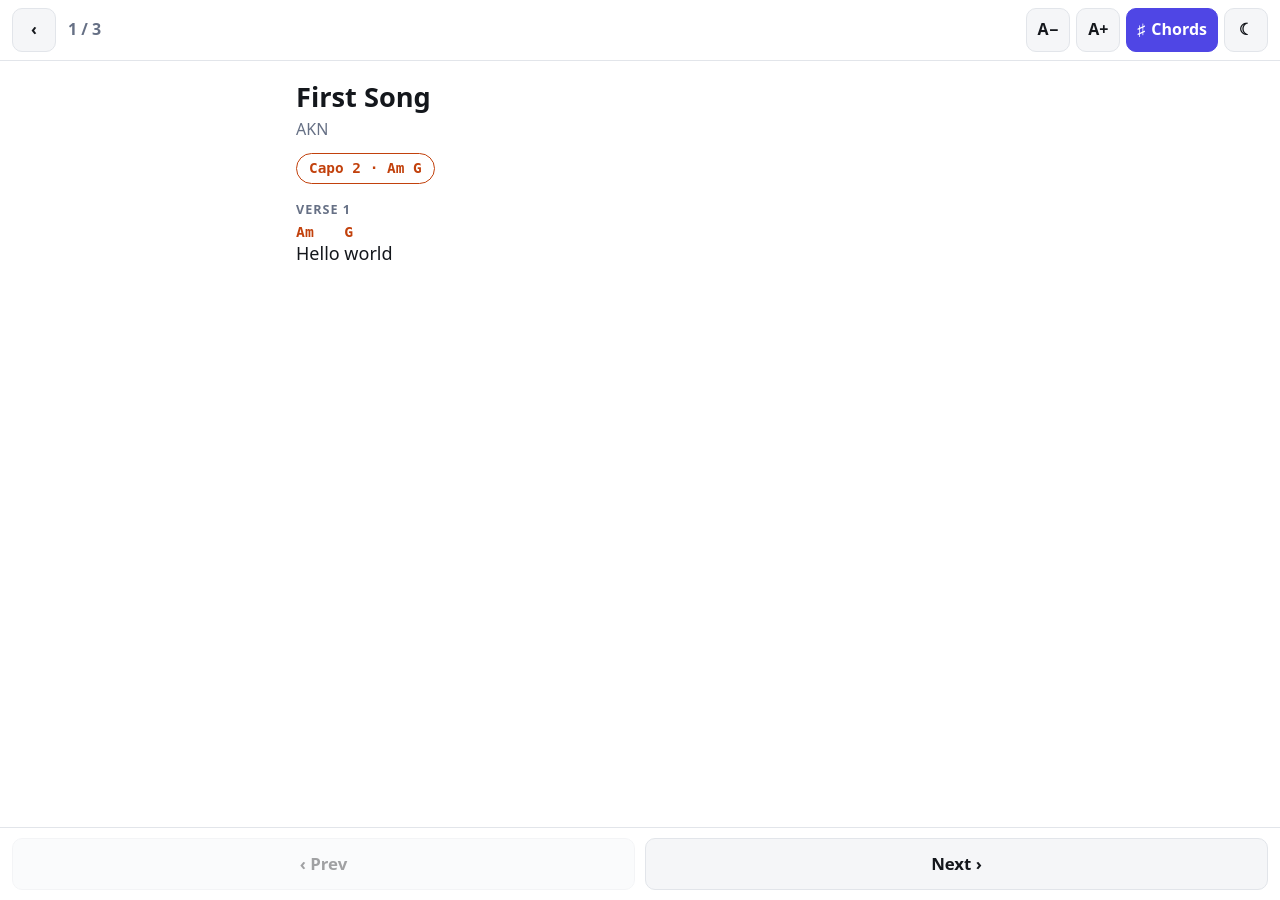
reader: chords on/off › hides and shows chords (and the capo line)
Click the button "♯ Chords" at (1172, 30), box top-left (1126, 8), bottom-right (1218, 52)
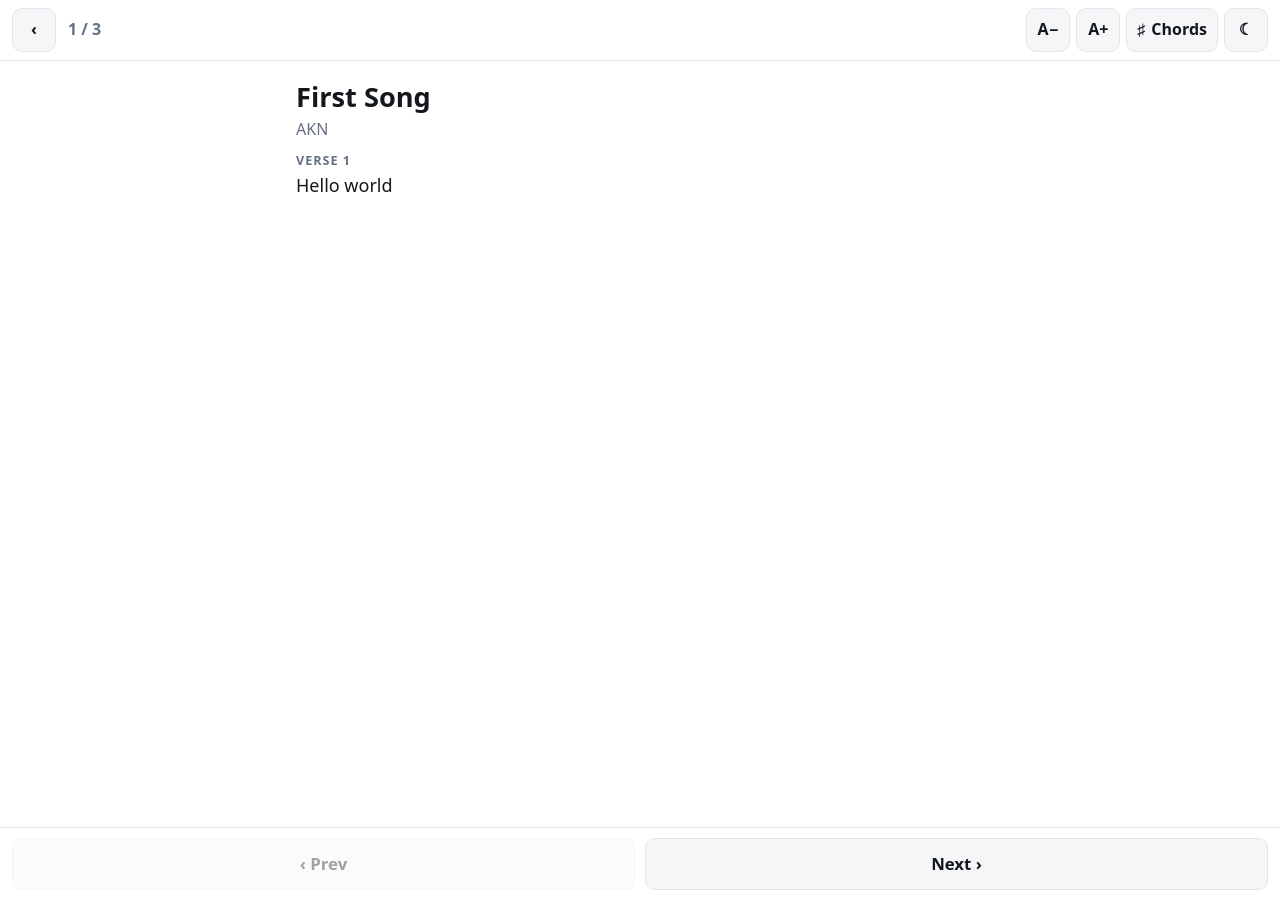
Expected: the text "Hello" is shown, top-left (296, 174), bottom-right (344, 198)
Expected: no elements with class "cl-chord" are shown
Expected: the text "Capo 2 · Am G" is gone
Click the button "♯ Chords" at (1172, 30), box top-left (1126, 8), bottom-right (1218, 52)
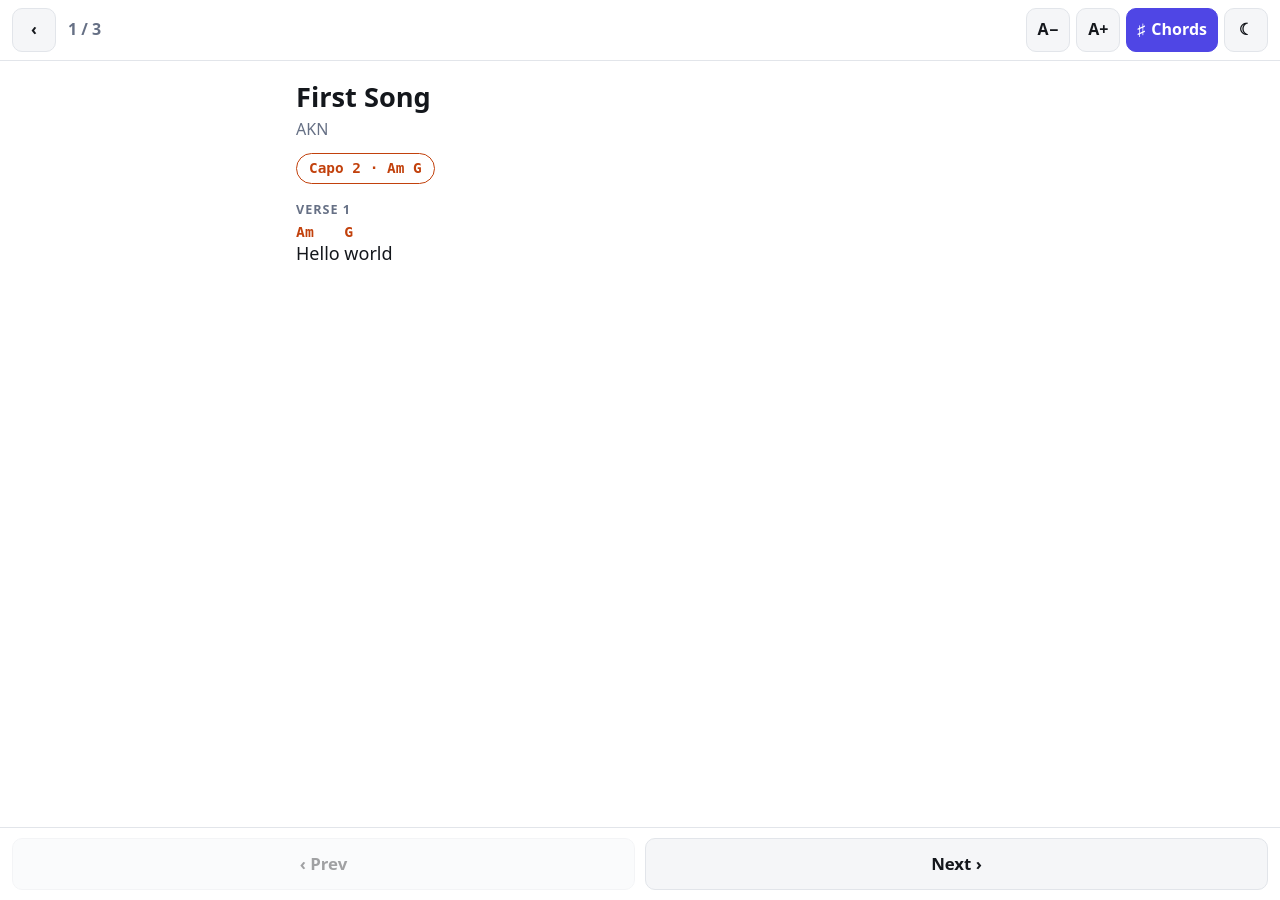
Expected: the number of elements with class "cl-chord" is 2, top-left (296, 223), bottom-right (314, 240); top-left (344, 223), bottom-right (353, 240)
